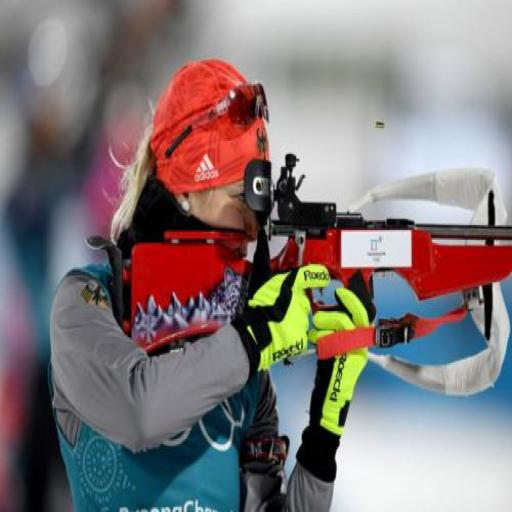shooting: (38, 50, 490, 512)
